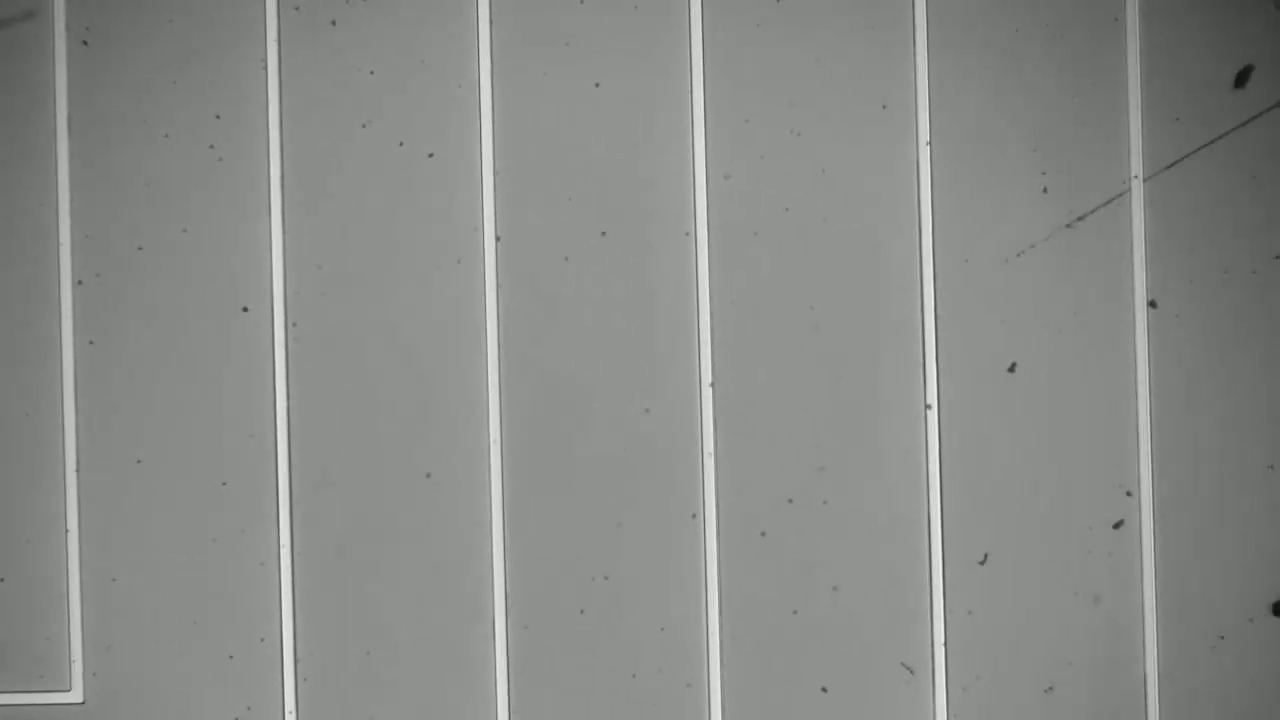scratch: (1015, 98, 1280, 263)
